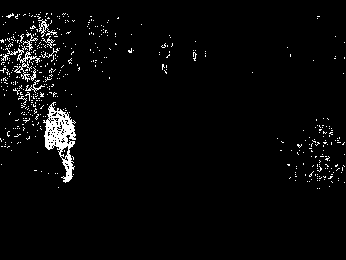person: (45, 102, 75, 182)
